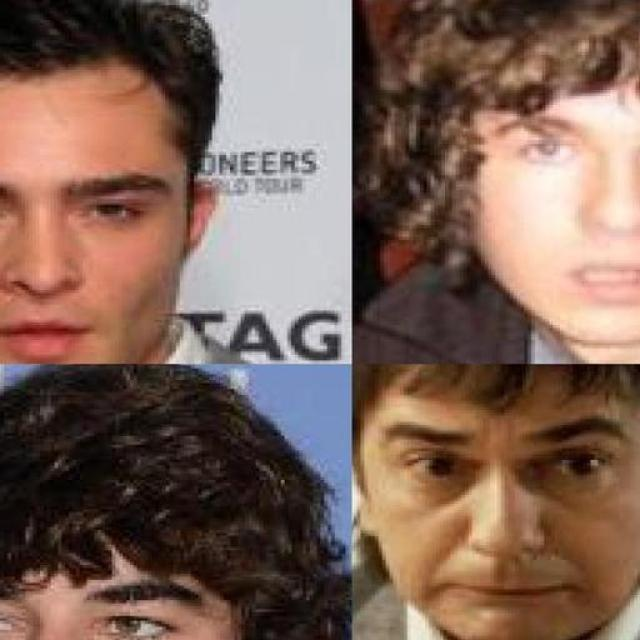bareface: (357, 371, 640, 640)
